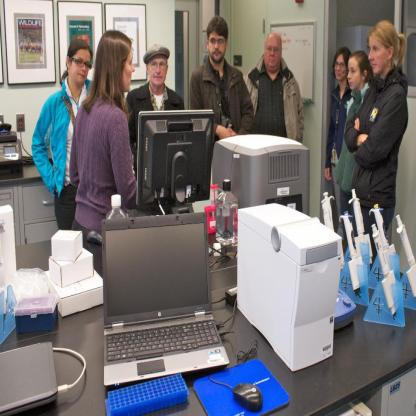board: (101, 212, 230, 388), (0, 340, 58, 416)
